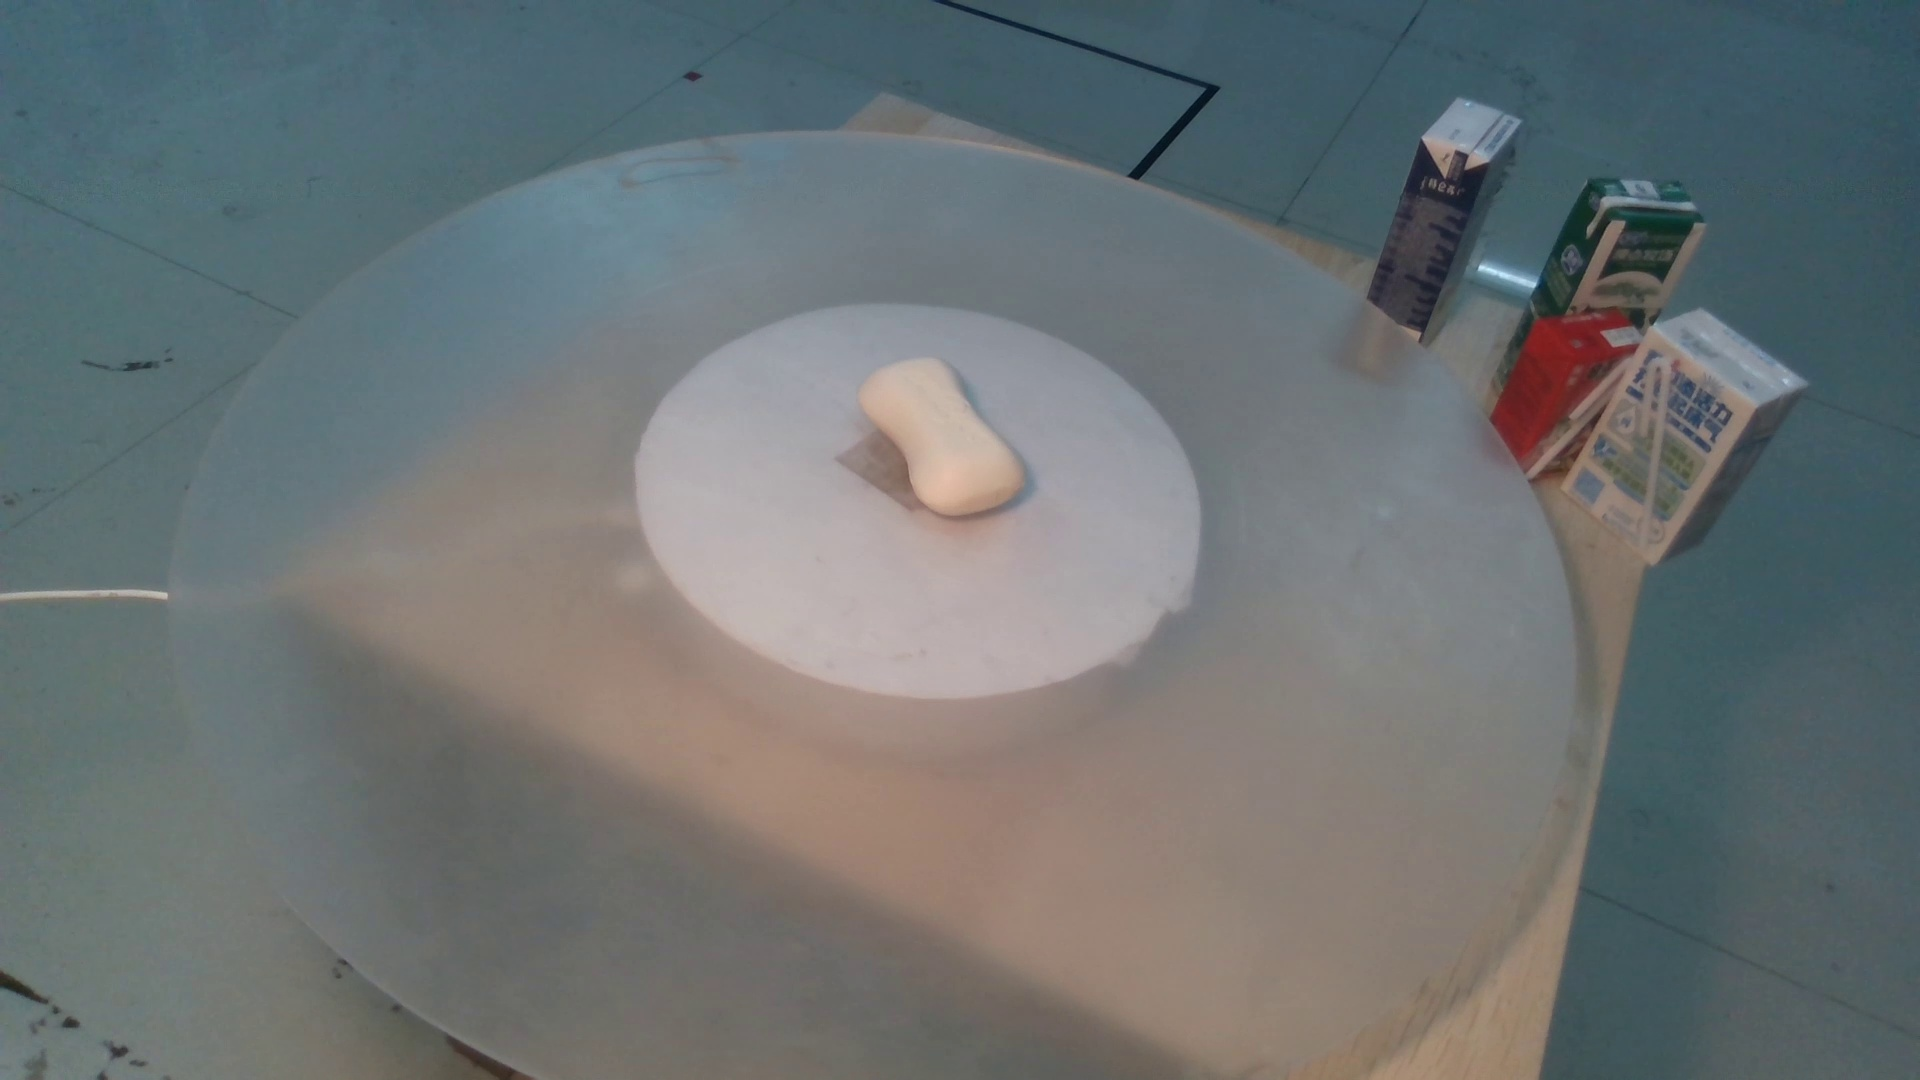CA003_1: (796, 338, 1087, 534)
